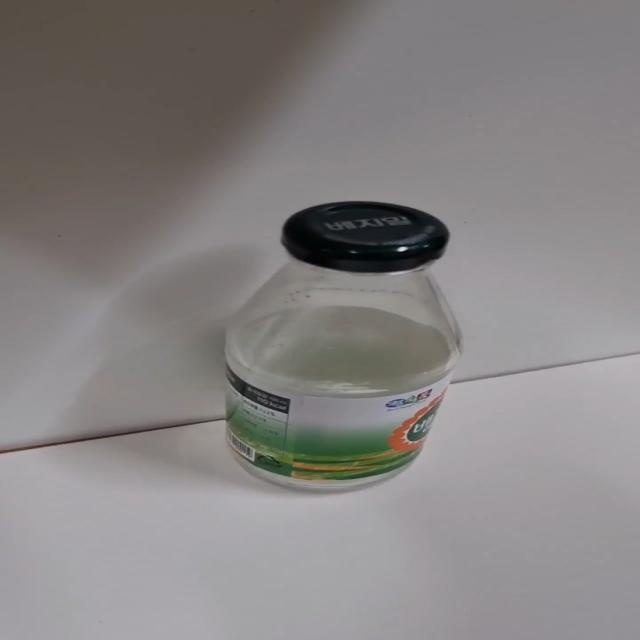Glass: (210, 202, 468, 496)
